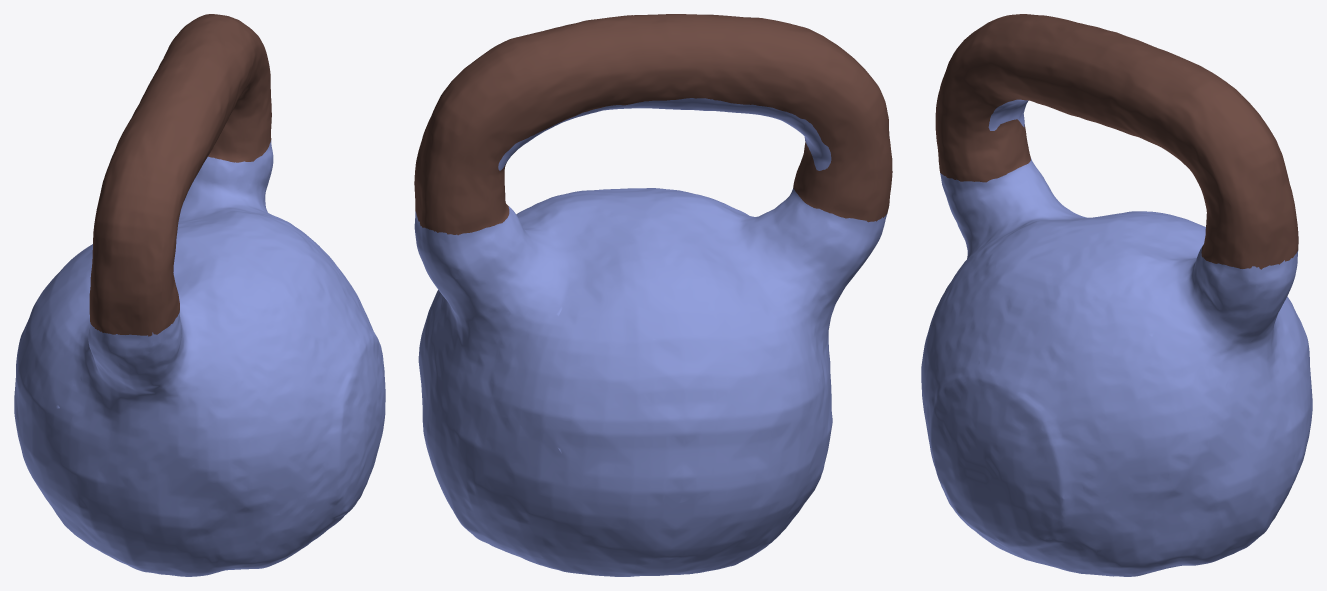
The model's file is Stack 4B - Kettlebell.glb.
The picture shows the model from 3 angles, left to right: view 1: azimuth 30°, elevation 25°; view 2: azimuth 150°, elevation 25°; view 3: azimuth 270°, elevation 25°; orthographic projection. The views are drawn at different scales.
Parts seen in each view (by area): view 1: Stack 4B - Kettlebell · mesh; view 2: Stack 4B - Kettlebell · mesh; view 3: Stack 4B - Kettlebell · mesh.
Part boxes in pixels (x1,y1,x2,y2): Stack 4B - Kettlebell · mesh: (14,14,385,576); Stack 4B - Kettlebell · mesh: (414,14,892,576); Stack 4B - Kettlebell · mesh: (921,14,1312,576).
Bounding box in the file's own units: 0.7412 × 1 × 0.7266.
